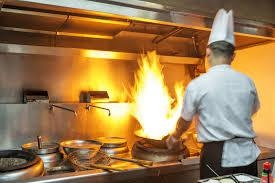fire: (125, 50, 188, 140)
